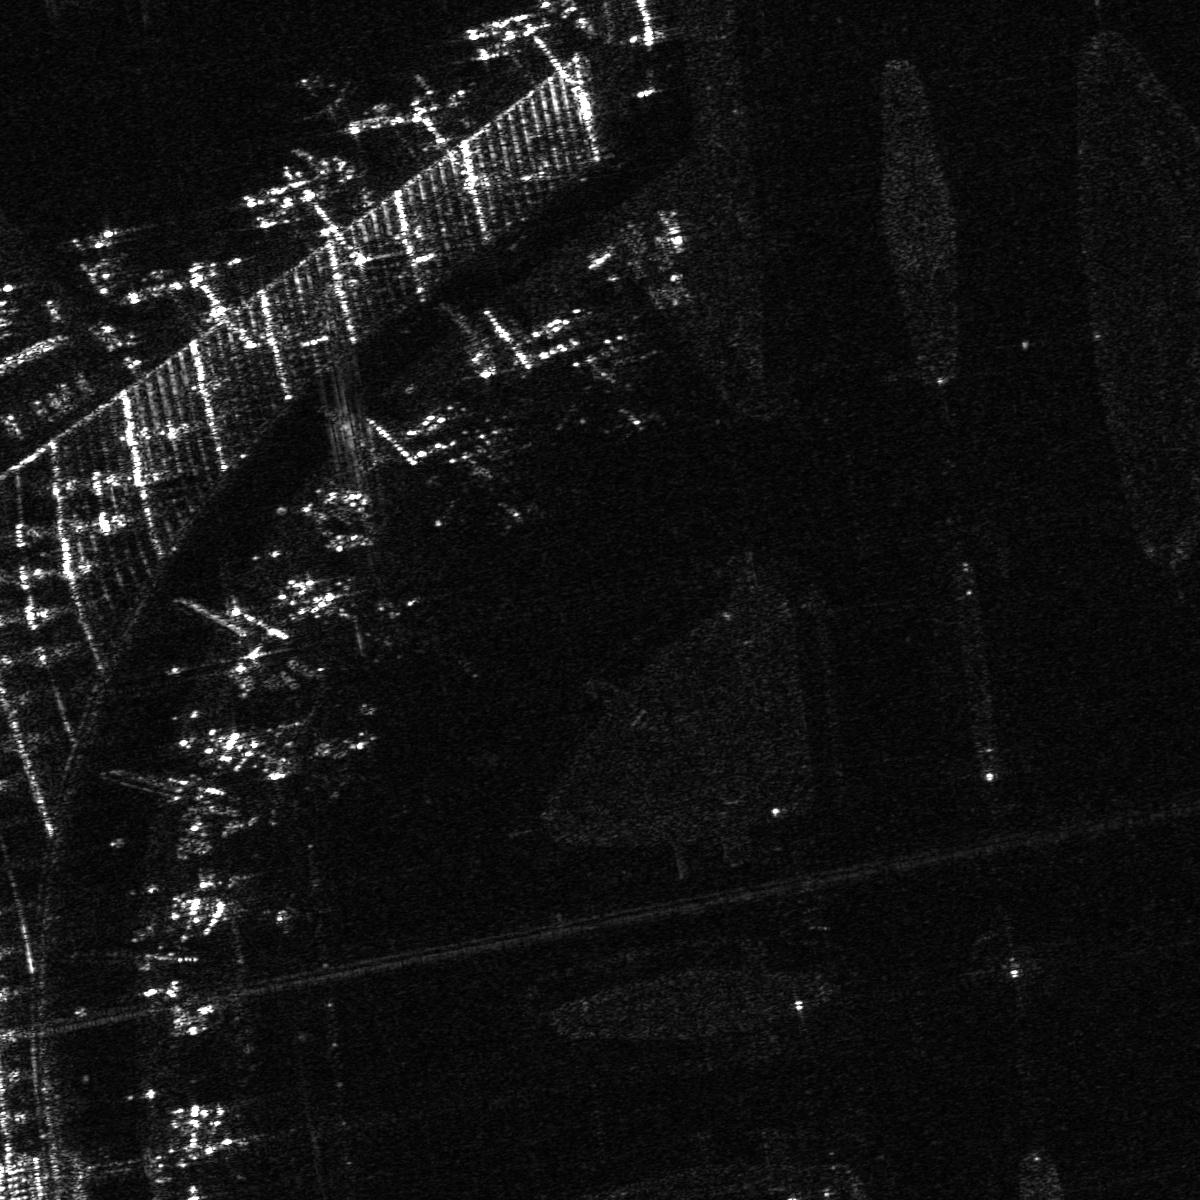Boeing787: (436, 438, 534, 525), (336, 584, 422, 669), (293, 69, 356, 122)
other: (555, 344, 659, 431), (218, 870, 295, 946)
